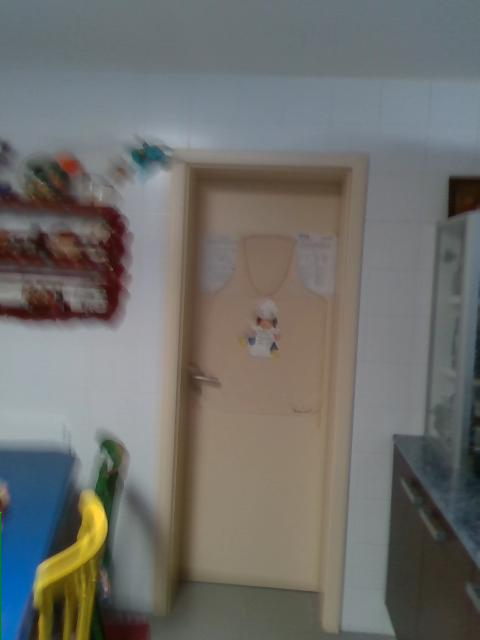door: (179, 177, 342, 594)
